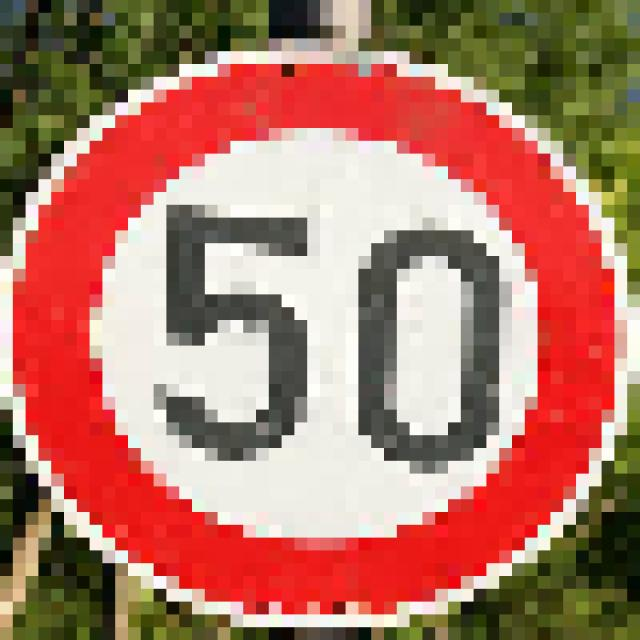Limite-50: (0, 38, 640, 635)
